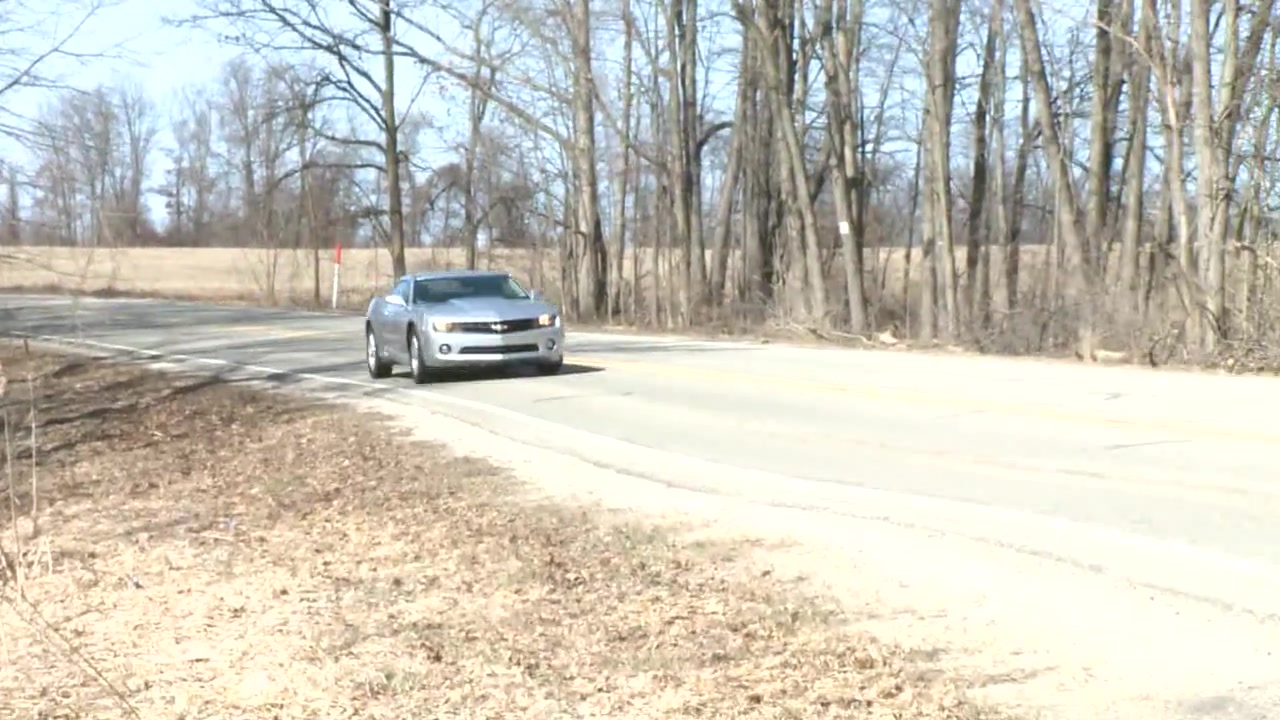car: (359, 270, 571, 383)
